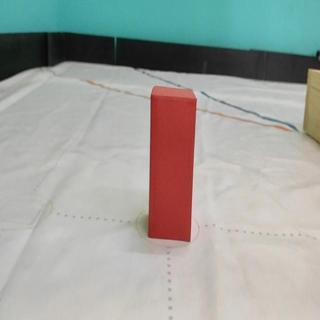redbox: (148, 83, 196, 242)
